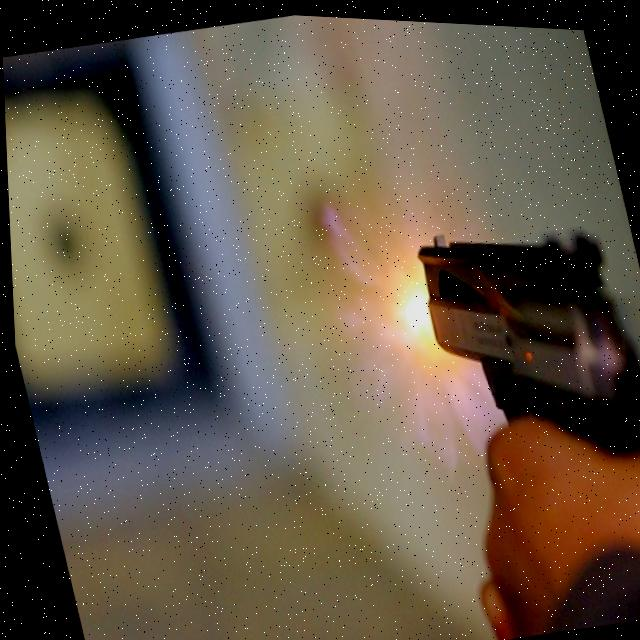pistol: (404, 189, 640, 490)
